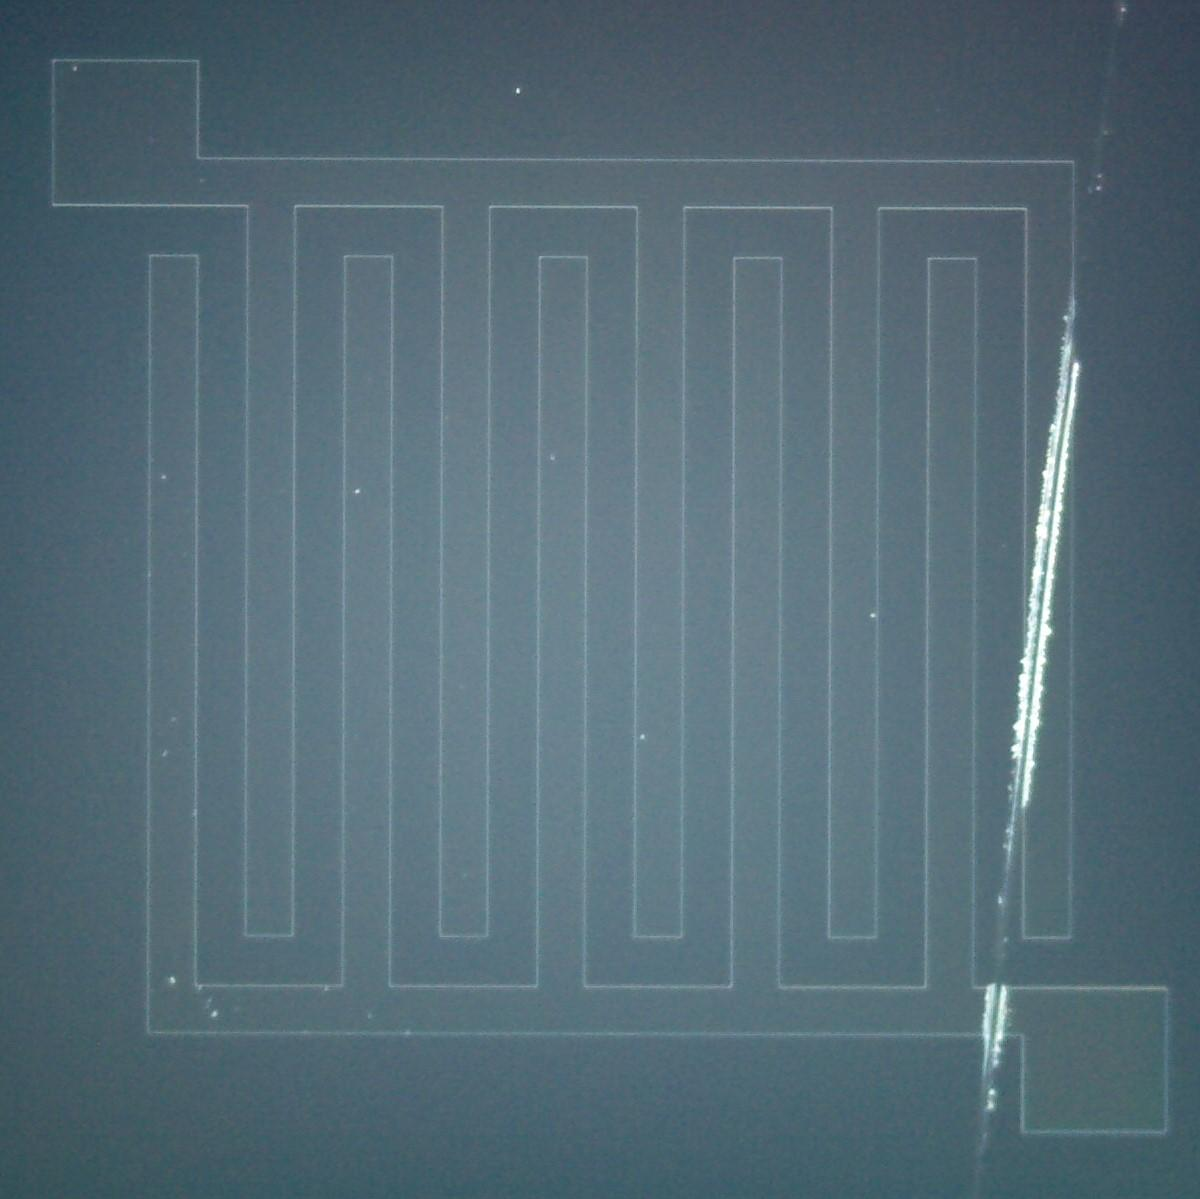B_point: (166, 974, 179, 987)
s_point: (635, 729, 651, 747), (168, 714, 180, 726), (363, 1010, 375, 1022), (158, 748, 170, 760), (209, 1009, 221, 1021), (194, 982, 206, 994), (203, 997, 215, 1009), (512, 85, 524, 97), (157, 472, 170, 483), (197, 175, 208, 187), (321, 983, 332, 995), (547, 453, 559, 464), (867, 609, 878, 621), (69, 63, 80, 75), (352, 485, 363, 496)
scratch: (991, 271, 1080, 965), (1088, 0, 1129, 195), (974, 982, 1012, 1167)
